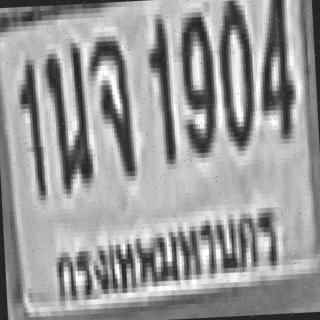A08: (87, 31, 134, 173)
A25: (42, 40, 92, 192)
N00: (214, 0, 254, 147)
N01: (146, 12, 174, 163), (15, 55, 43, 196)
N04: (254, 0, 294, 135)
N09: (178, 7, 215, 154)
P04: (51, 204, 286, 306)
